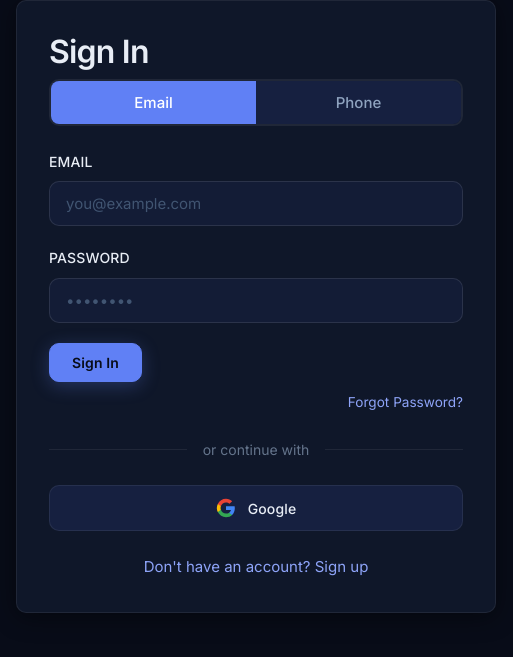
it: Login Page › email login › shows validation error for invalid email
Type "foo@bar" into the field labelled "Email". click: (256, 204)
box: [49, 182, 463, 226]
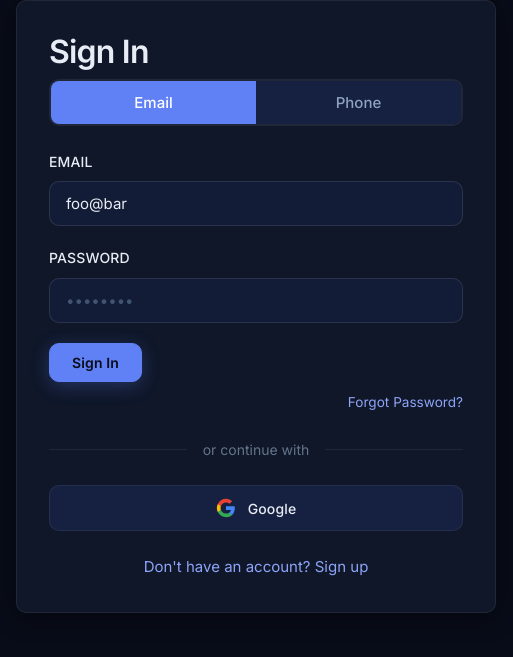
Type "pass1234" into the password field labelled "Password". click: (256, 300)
box: [49, 278, 463, 323]
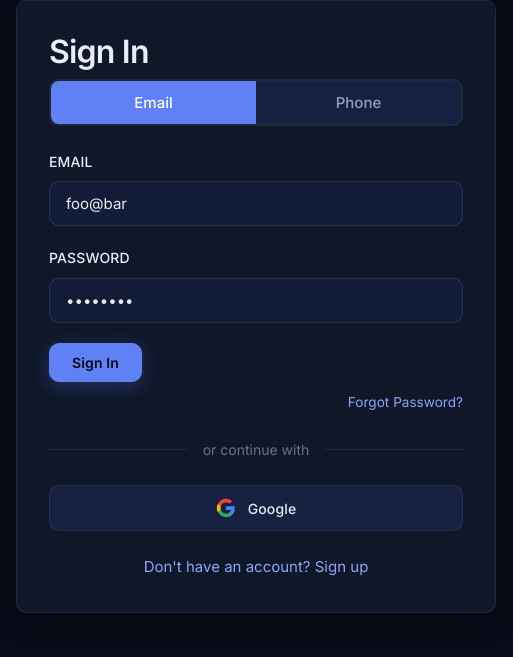
Click the button "Sign In". click: click(96, 362)
box: [49, 343, 142, 382]
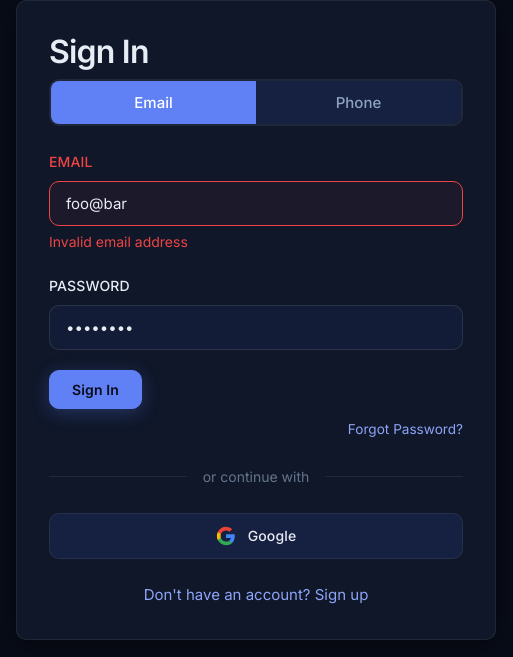
Check: the text "Invalid email address" is shown, box [49, 234, 188, 250]
